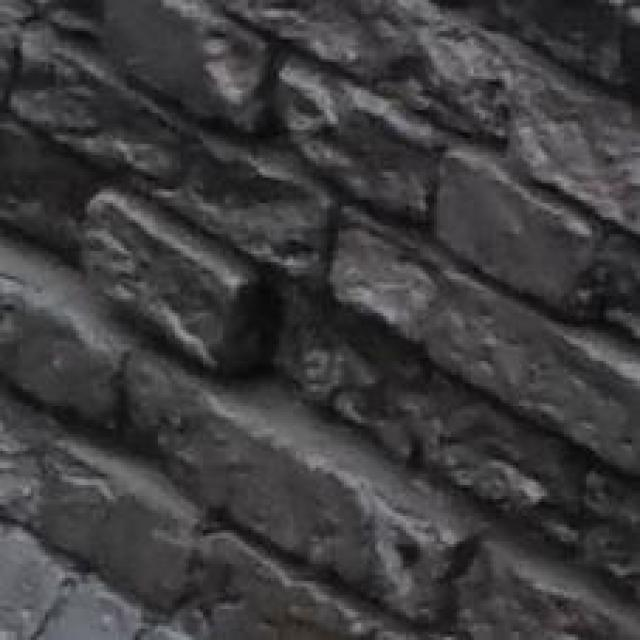Crack: (90, 143, 590, 548)
